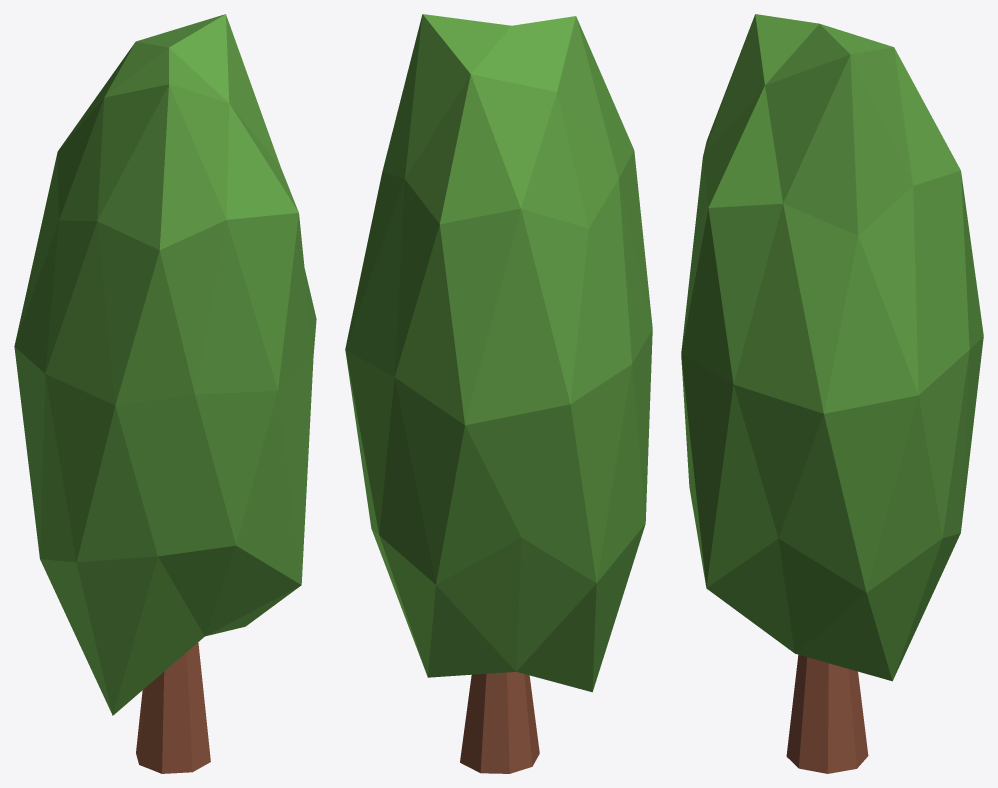
Rendered from tree4.glb.
The picture shows the model from 3 angles, left to right: view 1: azimuth 30°, elevation 25°; view 2: azimuth 150°, elevation 25°; view 3: azimuth 270°, elevation 25°; orthographic projection. The views are drawn at different scales.
Visible parts, largest first — view 1: Tree_05_summer; view 2: Tree_05_summer; view 3: Tree_05_summer.
Boxes of the visible parts, x1=… form: Tree_05_summer: x1=14, y1=14, x2=316, y2=773; Tree_05_summer: x1=345, y1=14, x2=652, y2=773; Tree_05_summer: x1=681, y1=14, x2=983, y2=773.
Bounding box in the file's own units: 1.04 × 2.66 × 0.9925.
Materials: 1 (1 with a texture image).
